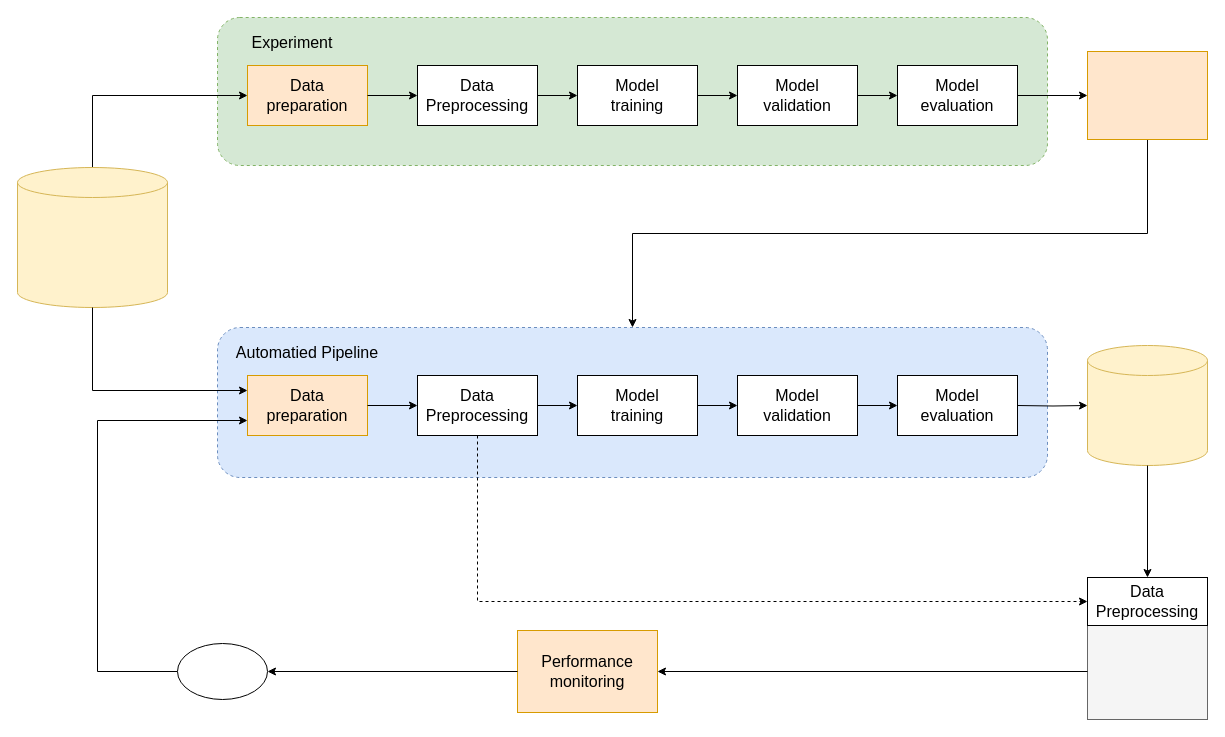
The diagram is 1225 pixels wide and 737 high, and some of its shapes have lost their labels. The centre of each missing label's shape, as x and y in pixels:
"DataLake" belongs at (x=92, y=237).
"Model inference" belongs at (x=1147, y=671).
"Model registry" belongs at (x=1147, y=405).
"Pipeline deployment" belongs at (x=1147, y=95).
"trigger" belongs at (x=222, y=671).
